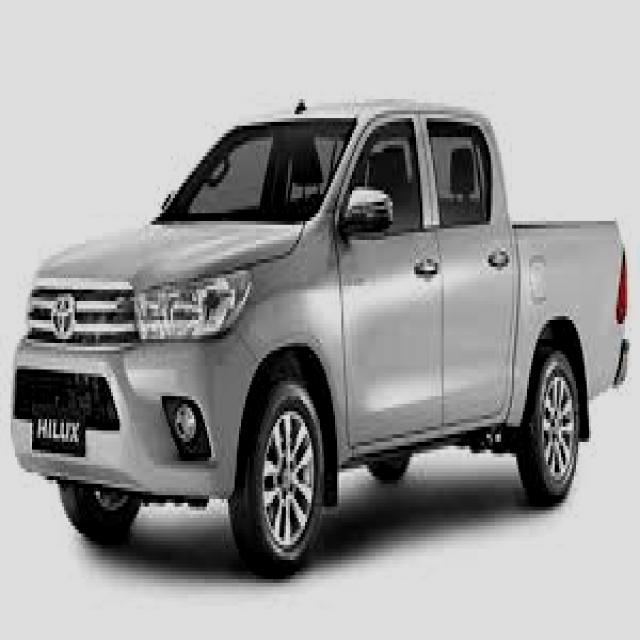CMT: (29, 108, 626, 577)
